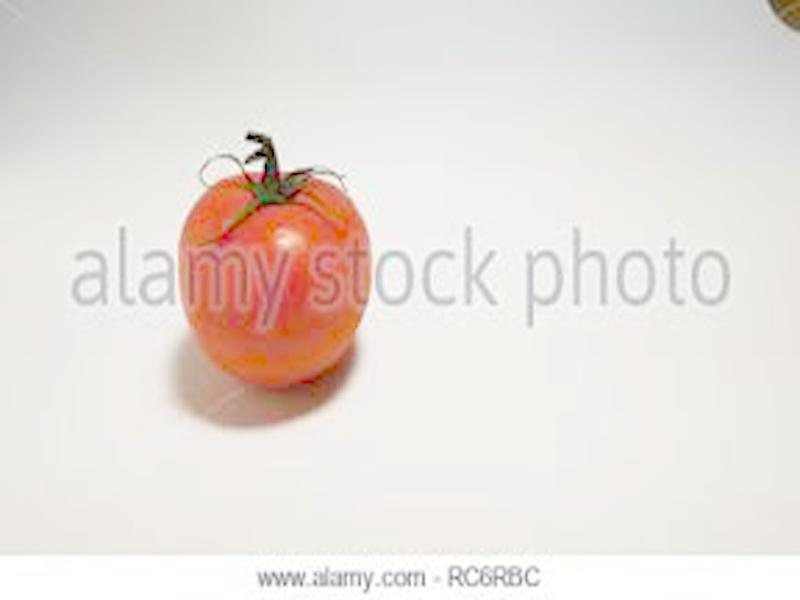Tomato: (178, 168, 372, 384)
